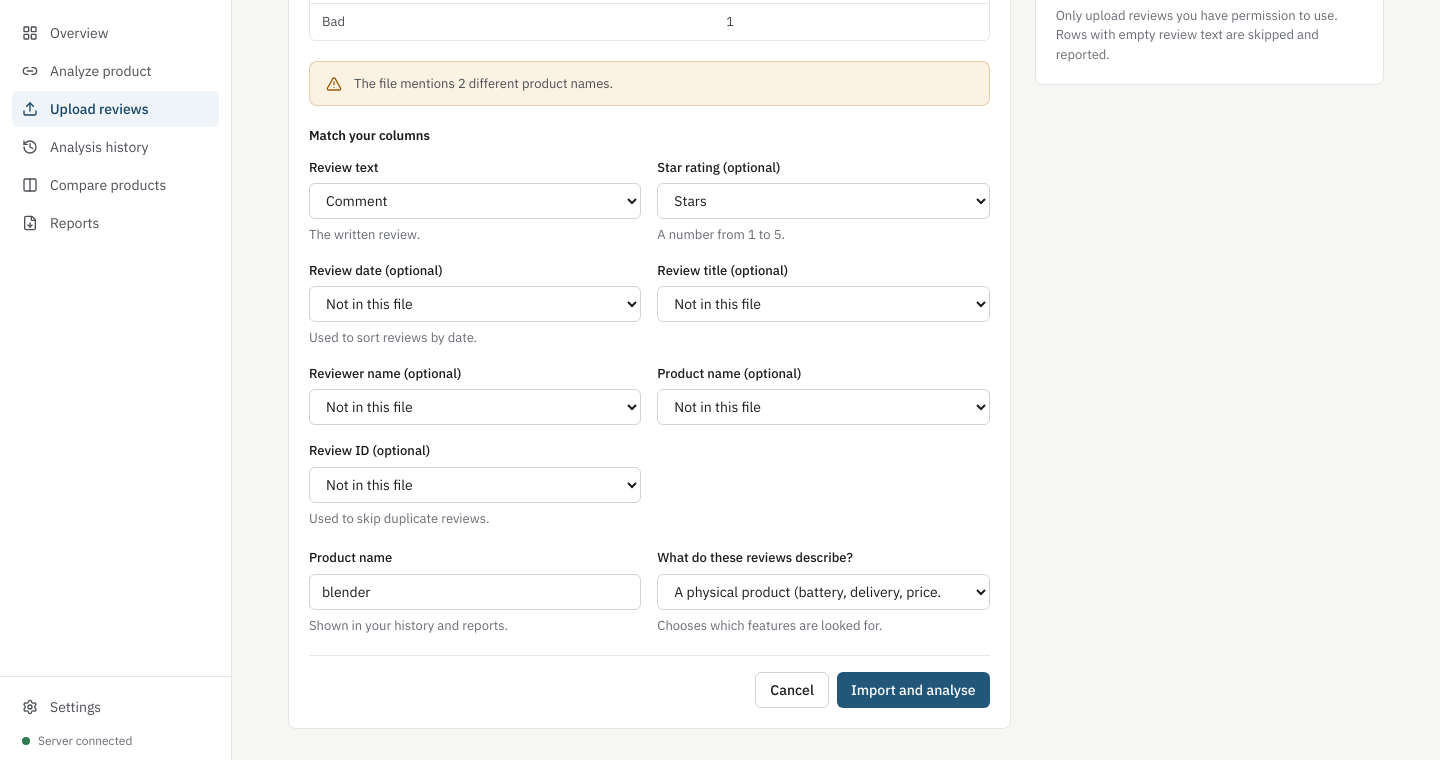
Test: with the backend running › upload: preview, import, then open the new analysis
Earlier steps of the test are not shown.
(page scrolled)
Expected: the text "The file mentions 2 different product names." is shown, [354,74,613,92]
Expected: the field labelled "Product name" holds "blender", [309,574,641,610]
Step 1. Click the button "Import and analyse" → (913, 690), box [837,672,990,708]
(page scrolled)
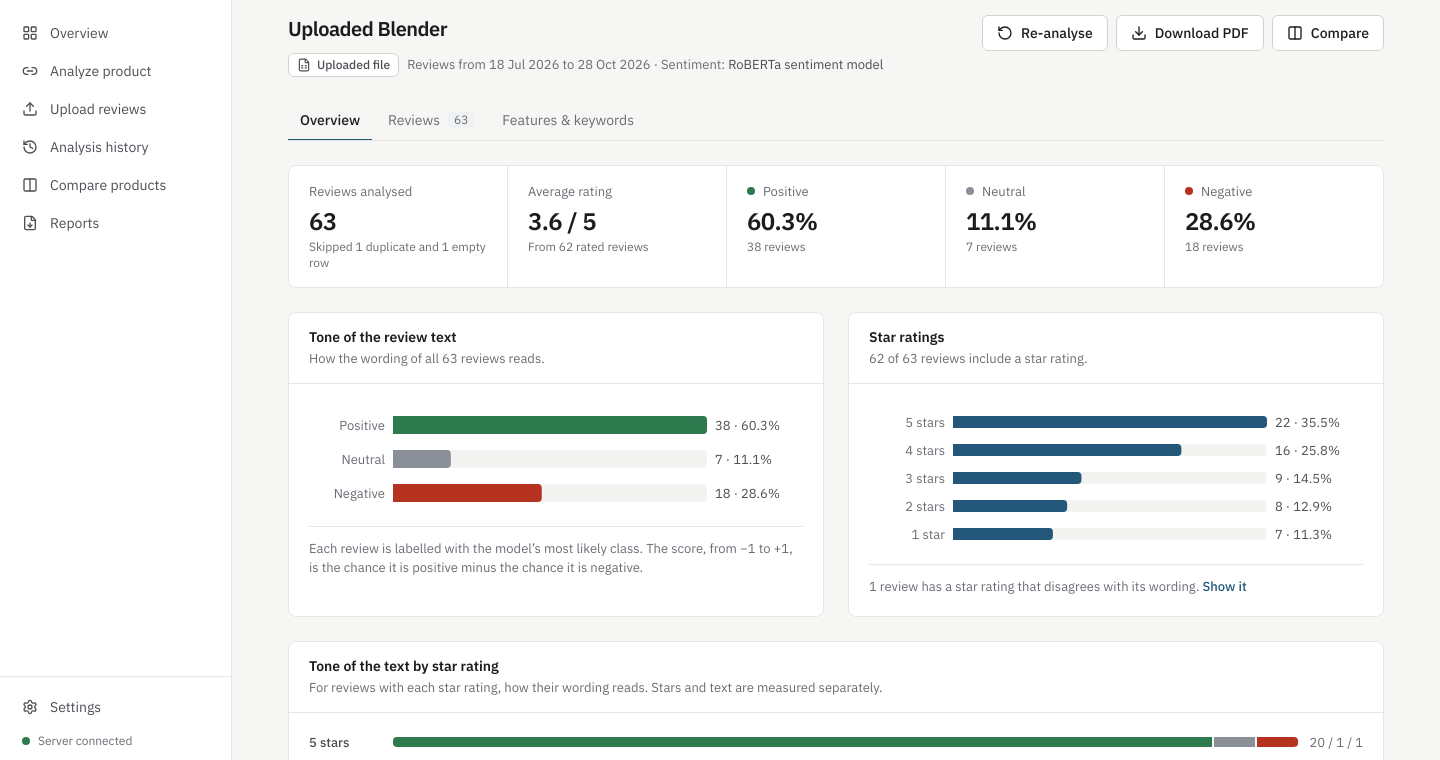
Now the heading "Uploaded Blender" is shown, box [288,14,447,42]
